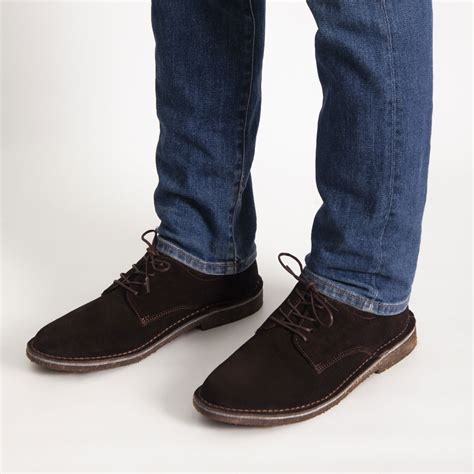gamuza: (26, 241, 416, 416)
